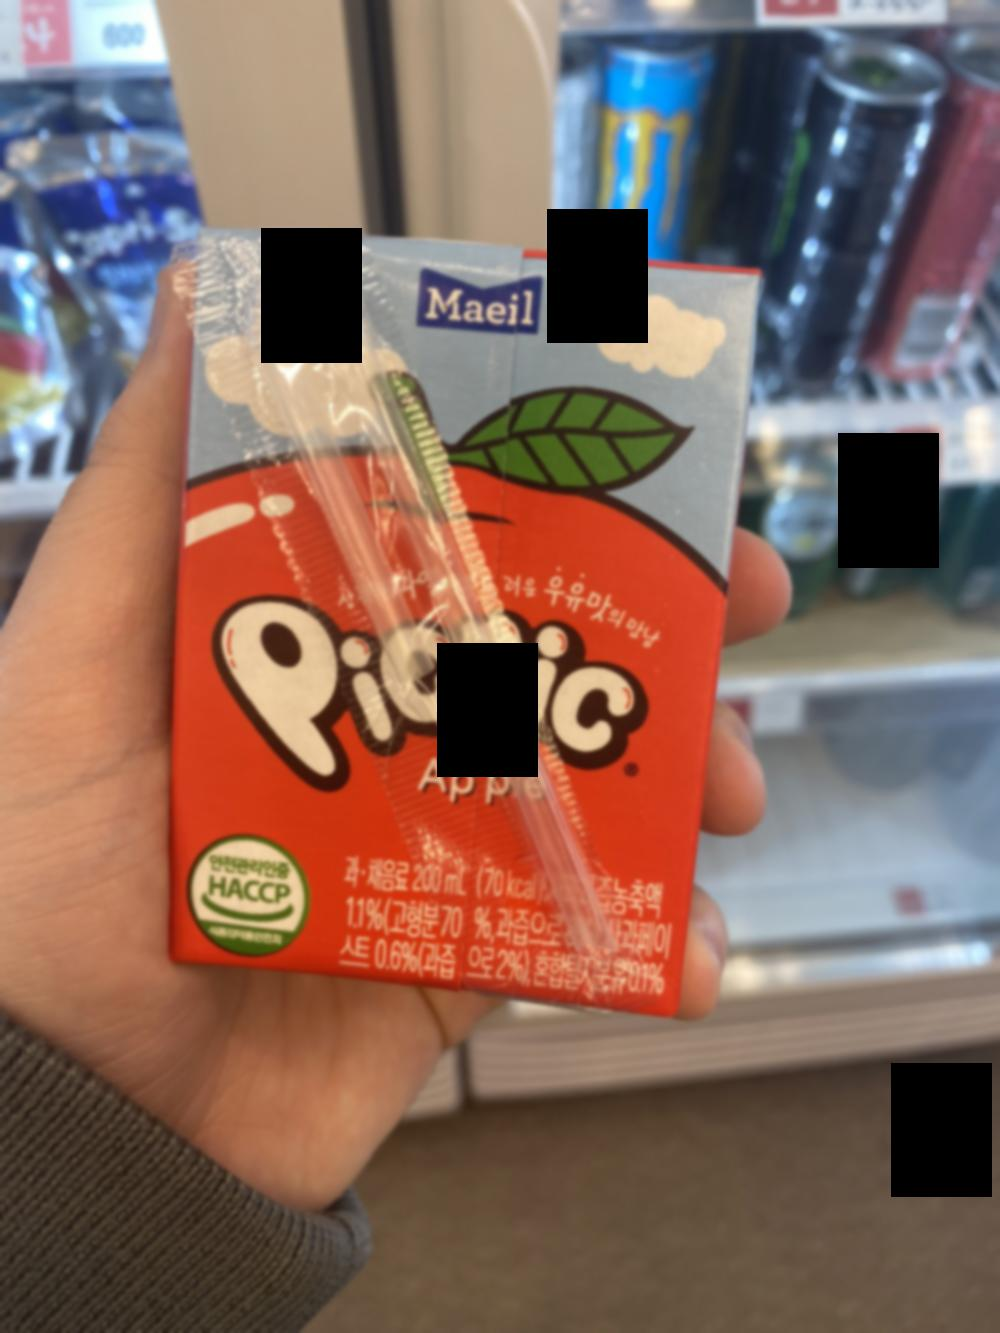picnic_apple: (185, 214, 739, 1019)
